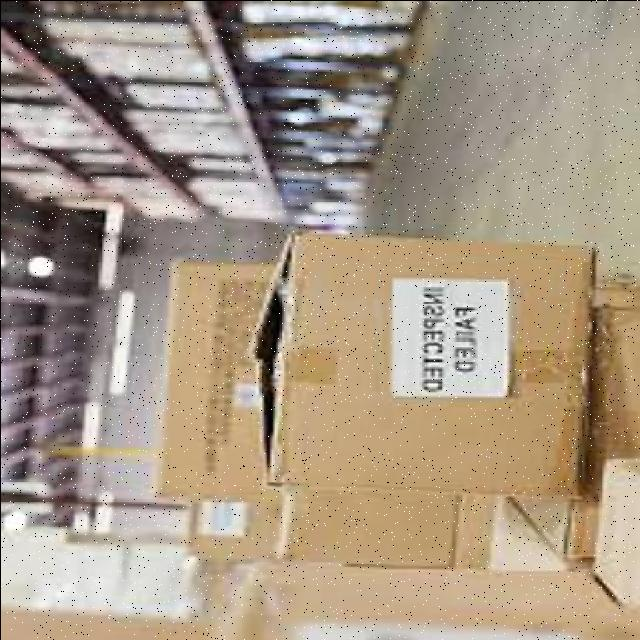defect: (231, 227, 594, 496)
